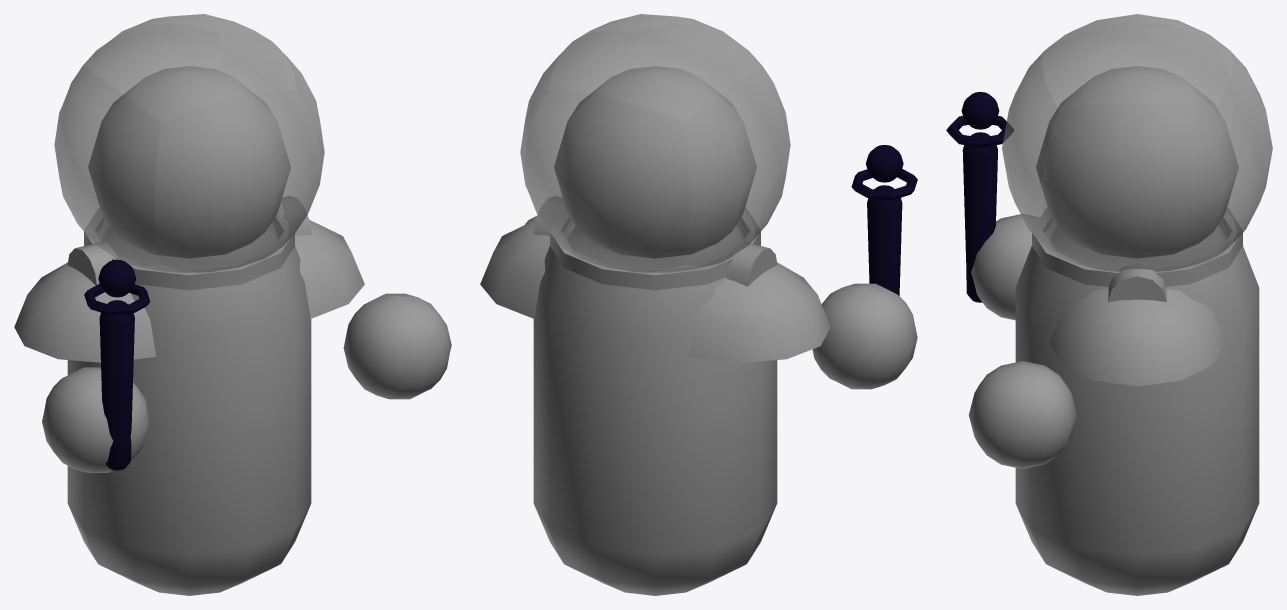
Rendered from PersonajeBase.FBX.
The picture shows the model from 3 angles, left to right: view 1: azimuth 30°, elevation 25°; view 2: azimuth 150°, elevation 25°; view 3: azimuth 270°, elevation 25°; orthographic projection.
Parts seen in each view (by area): view 1: Personaje 01, casco, ManoIz, bate, ManoD; view 2: Personaje 01, casco, ManoD, bate; view 3: Personaje 01, casco, ManoIz, bate, ManoD.
Boxes of the visible parts, <box> form: Personaje 01: <box>14,66,364,595</box>; casco: <box>54,14,324,272</box>; ManoIz: <box>343,293,451,399</box>; bate: <box>84,259,150,470</box>; ManoD: <box>42,367,149,472</box>; Personaje 01: <box>480,66,830,595</box>; casco: <box>520,14,790,272</box>; ManoD: <box>812,283,917,389</box>; bate: <box>851,145,917,295</box>; Personaje 01: <box>1015,66,1259,595</box>; casco: <box>1002,14,1272,271</box>; ManoIz: <box>969,361,1076,469</box>; bate: <box>946,92,1013,302</box>; ManoD: <box>971,214,1039,320</box>.
Bounding box in the file's own units: 26.55 × 35.58 × 18.99.
